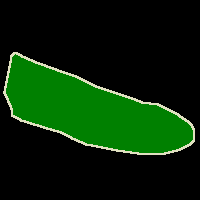shoe: (4, 52, 194, 154)
